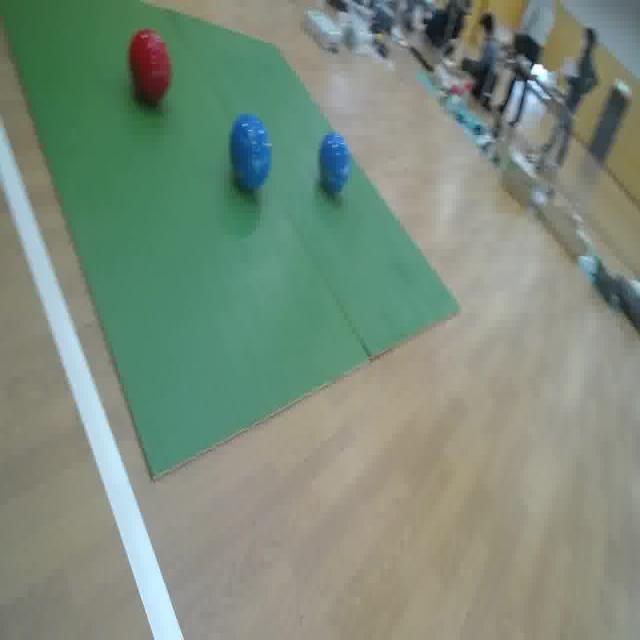blue_ball: (228, 109, 274, 193), (317, 129, 351, 196)
red_ball: (124, 26, 174, 105)
